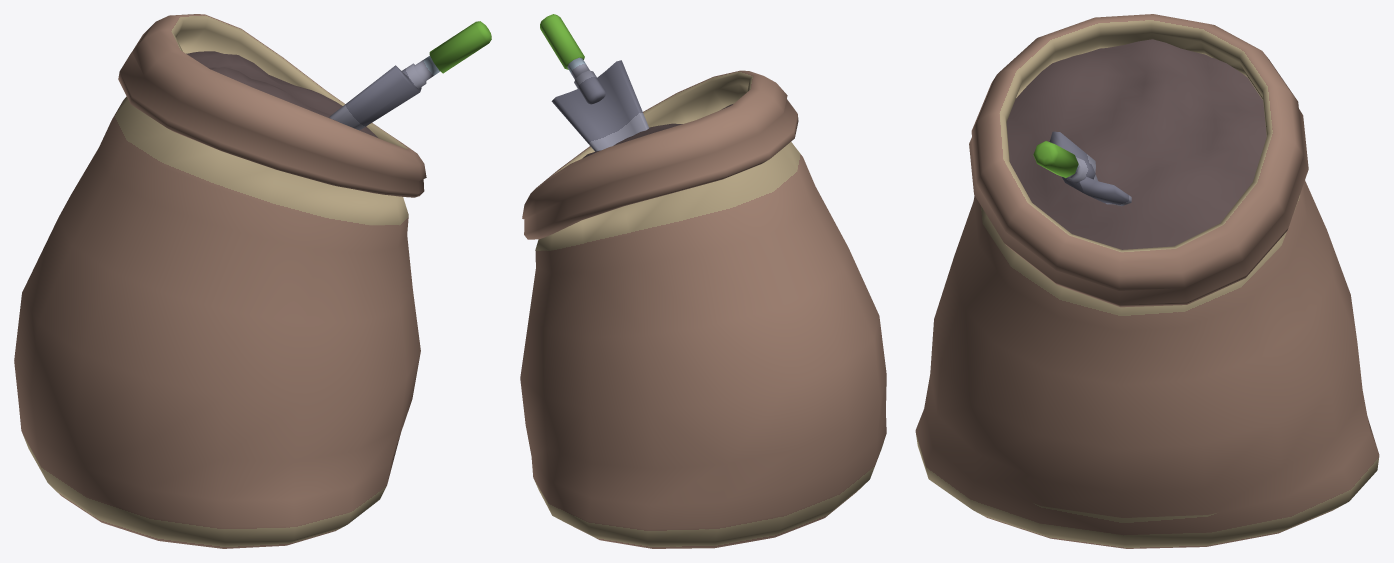
The model's file is bolsa.fbx.
3 renders of one model, left to right at view 1: azimuth 30°, elevation 25°; view 2: azimuth 150°, elevation 25°; view 3: azimuth 270°, elevation 25°, orthographic. The views are drawn at different scales.
Visible parts, largest first — view 1: bolsa; view 2: bolsa; view 3: bolsa.
Part boxes in pixels (<box>): bolsa: <box>14,14,491,548</box>; bolsa: <box>520,14,886,548</box>; bolsa: <box>915,14,1379,548</box>.
Size of the model in its own units: 119 by 126 by 114.
